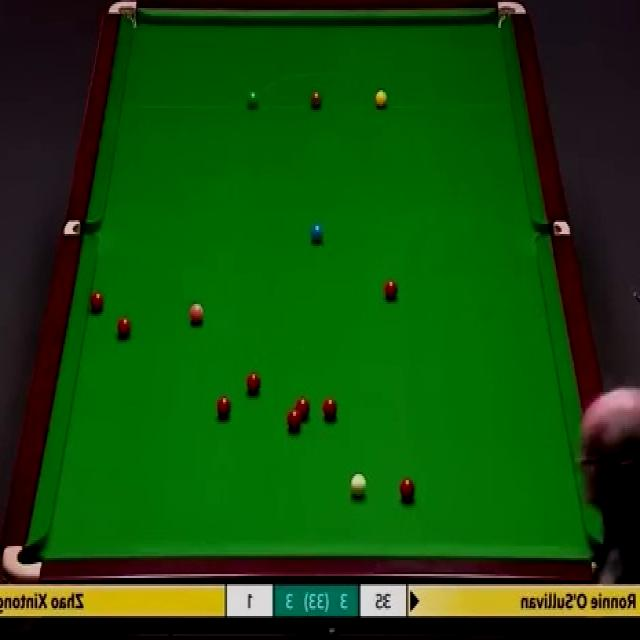pocket: (4, 543, 45, 580), (106, 0, 140, 32), (497, 0, 527, 28), (533, 217, 572, 237), (65, 218, 99, 237)
